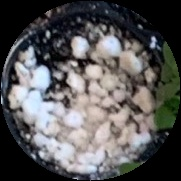Nothing: (0, 0, 181, 180)
